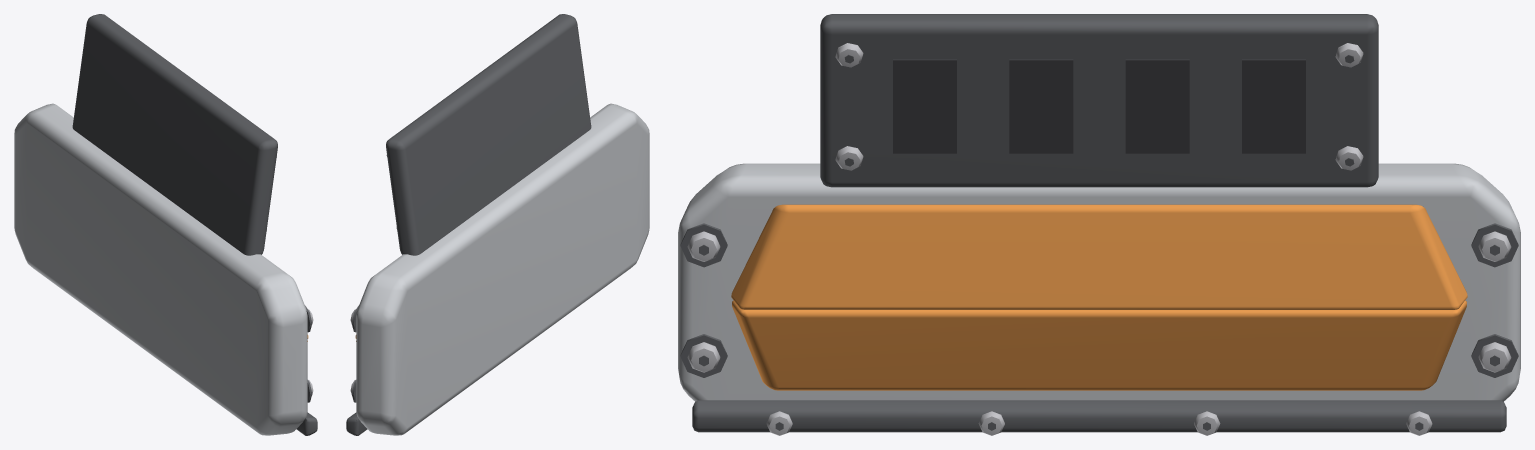
File: plate_wedge_sides.glb
3 renders of one model, left to right at view 1: azimuth 30°, elevation 25°; view 2: azimuth 150°, elevation 25°; view 3: azimuth 270°, elevation 25°, orthographic. The views are drawn at different scales.
Parts seen in each view (by area): view 1: body; view 2: body; view 3: body.
Boxes of the visible parts, bbox=[...] form: body: bbox=[14, 14, 317, 435]; body: bbox=[346, 14, 649, 435]; body: bbox=[678, 14, 1520, 435].
Size of the model in its own units: 0.0336 by 0.1596 by 0.2899.
